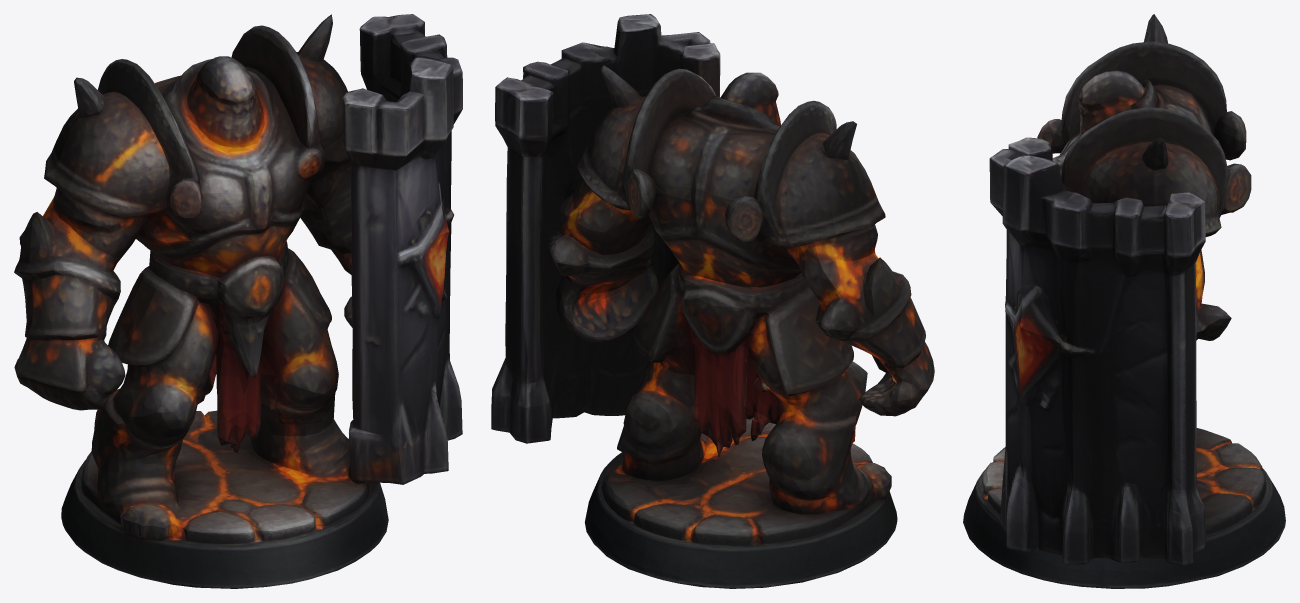
3 renders of one model, left to right at view 1: azimuth 30°, elevation 25°; view 2: azimuth 150°, elevation 25°; view 3: azimuth 270°, elevation 25°, orthographic. The views are drawn at different scales.
Visible parts, largest first — view 1: world; view 2: world; view 3: world.
Part boxes in pixels (box(x1,y1,x2,y2)): world: box(14, 14, 462, 588); world: box(491, 14, 934, 588); world: box(963, 14, 1285, 588).
Size of the model in its own units: 0.5774 by 0.5938 by 0.387.
Materials: 1 (1 with a texture image).
